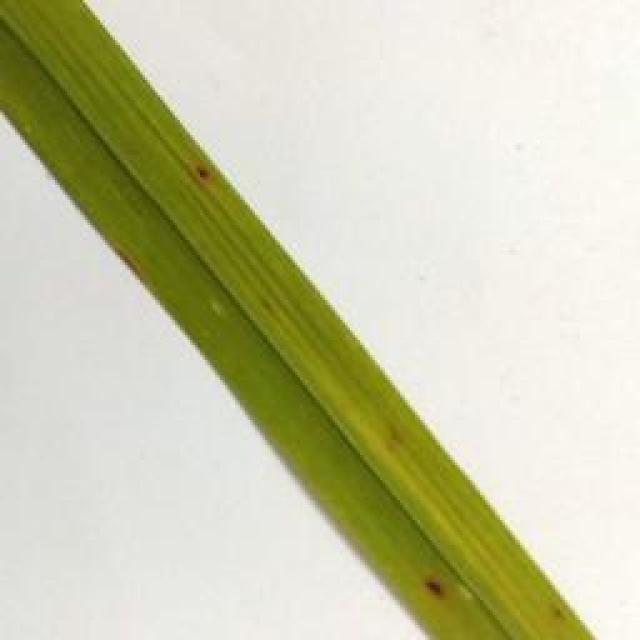Brown_Spot: (98, 245, 162, 298), (183, 150, 219, 202), (422, 574, 458, 616), (383, 418, 417, 462), (546, 603, 574, 629)
